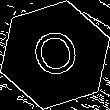O_S: (26, 24, 84, 86)
